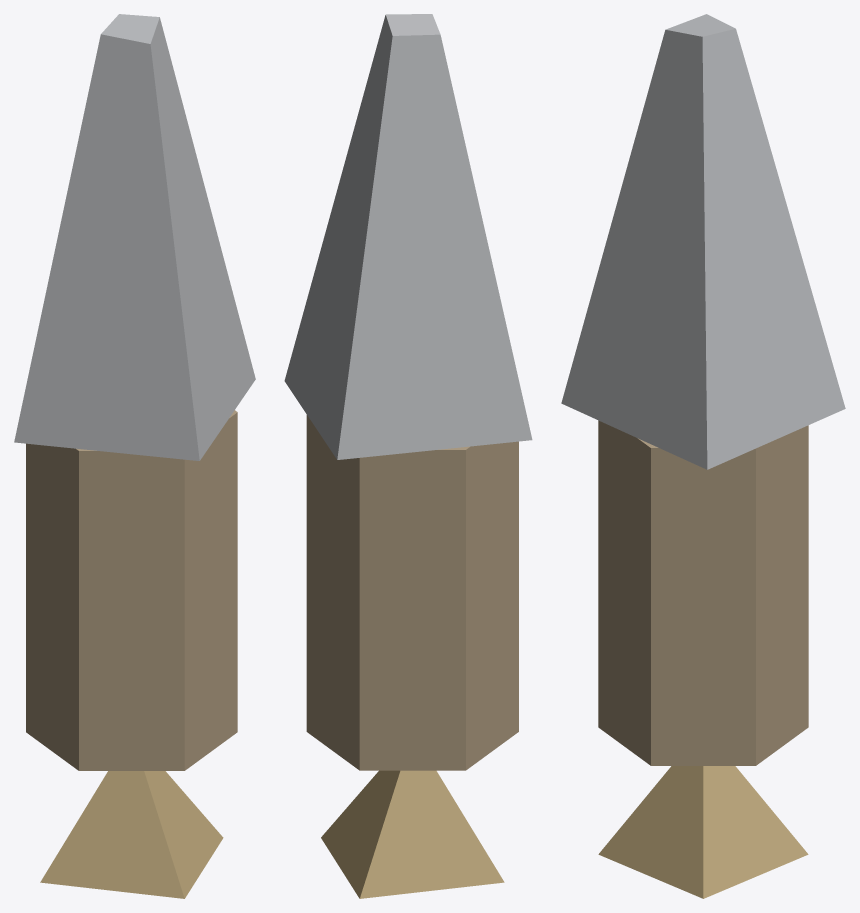
Rendered from knife.glb.
The picture shows the model from 3 angles, left to right: view 1: azimuth 30°, elevation 25°; view 2: azimuth 150°, elevation 25°; view 3: azimuth 270°, elevation 25°; orthographic projection.
Visible parts, largest first — view 1: knife; view 2: knife; view 3: knife.
Part boxes in pixels (x1,y1,x2,y2): knife: [14, 14, 255, 898]; knife: [284, 14, 532, 898]; knife: [561, 14, 845, 898].
Bounding box in the file's own units: 0.08 × 0.2615 × 0.0811.
